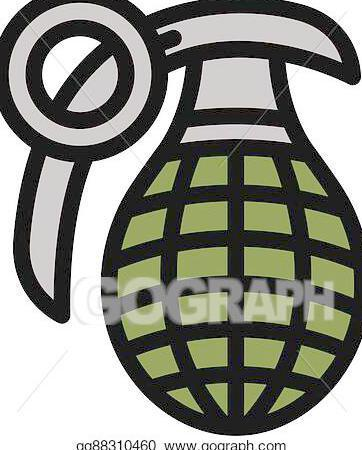Grenade: (0, 0, 361, 438)
